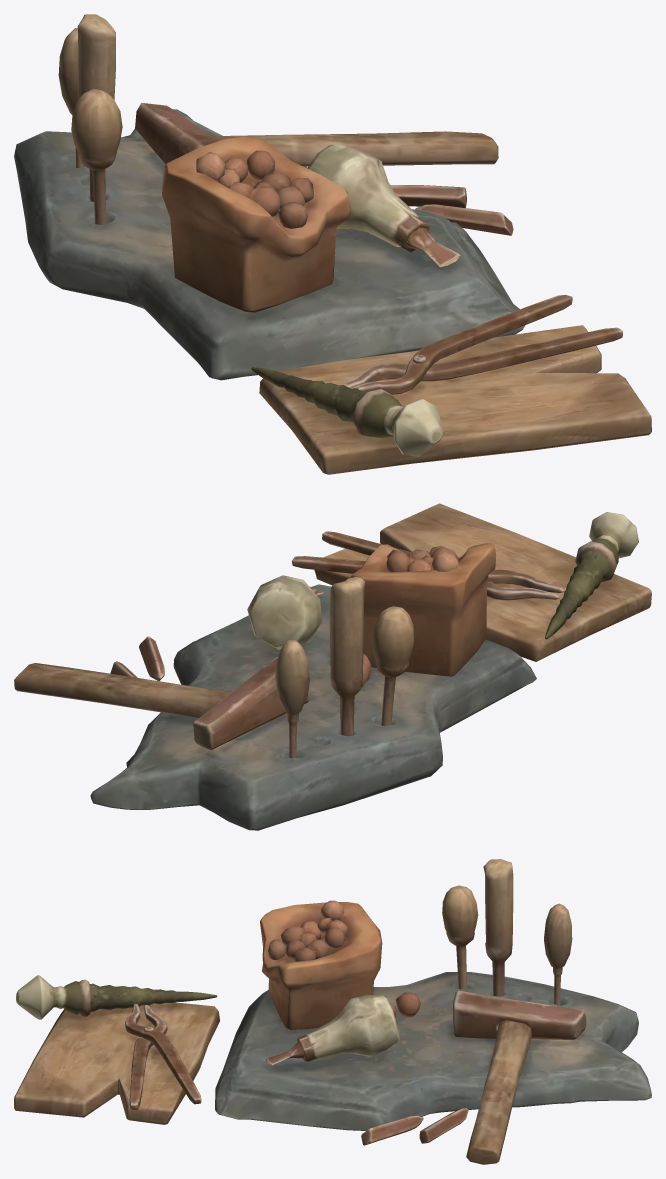
3 views of the same model, one above another, from view 1: azimuth 30°, elevation 25°; view 2: azimuth 150°, elevation 25°; view 3: azimuth 270°, elevation 25° (orthographic). The views are drawn at different scales.
Visible parts, largest first — view 1: SM_Jewelcrafter_Kit_01_LOD0; view 2: SM_Jewelcrafter_Kit_01_LOD0; view 3: SM_Jewelcrafter_Kit_01_LOD0.
Boxes of the visible parts, x1,y1,x2,y2 form: SM_Jewelcrafter_Kit_01_LOD0: (14,14,651,474); SM_Jewelcrafter_Kit_01_LOD0: (14,503,651,830); SM_Jewelcrafter_Kit_01_LOD0: (14,859,651,1164).
Size of the model in its own units: 0.3362 by 0.1604 by 0.545.
1 material, 1 textured.
